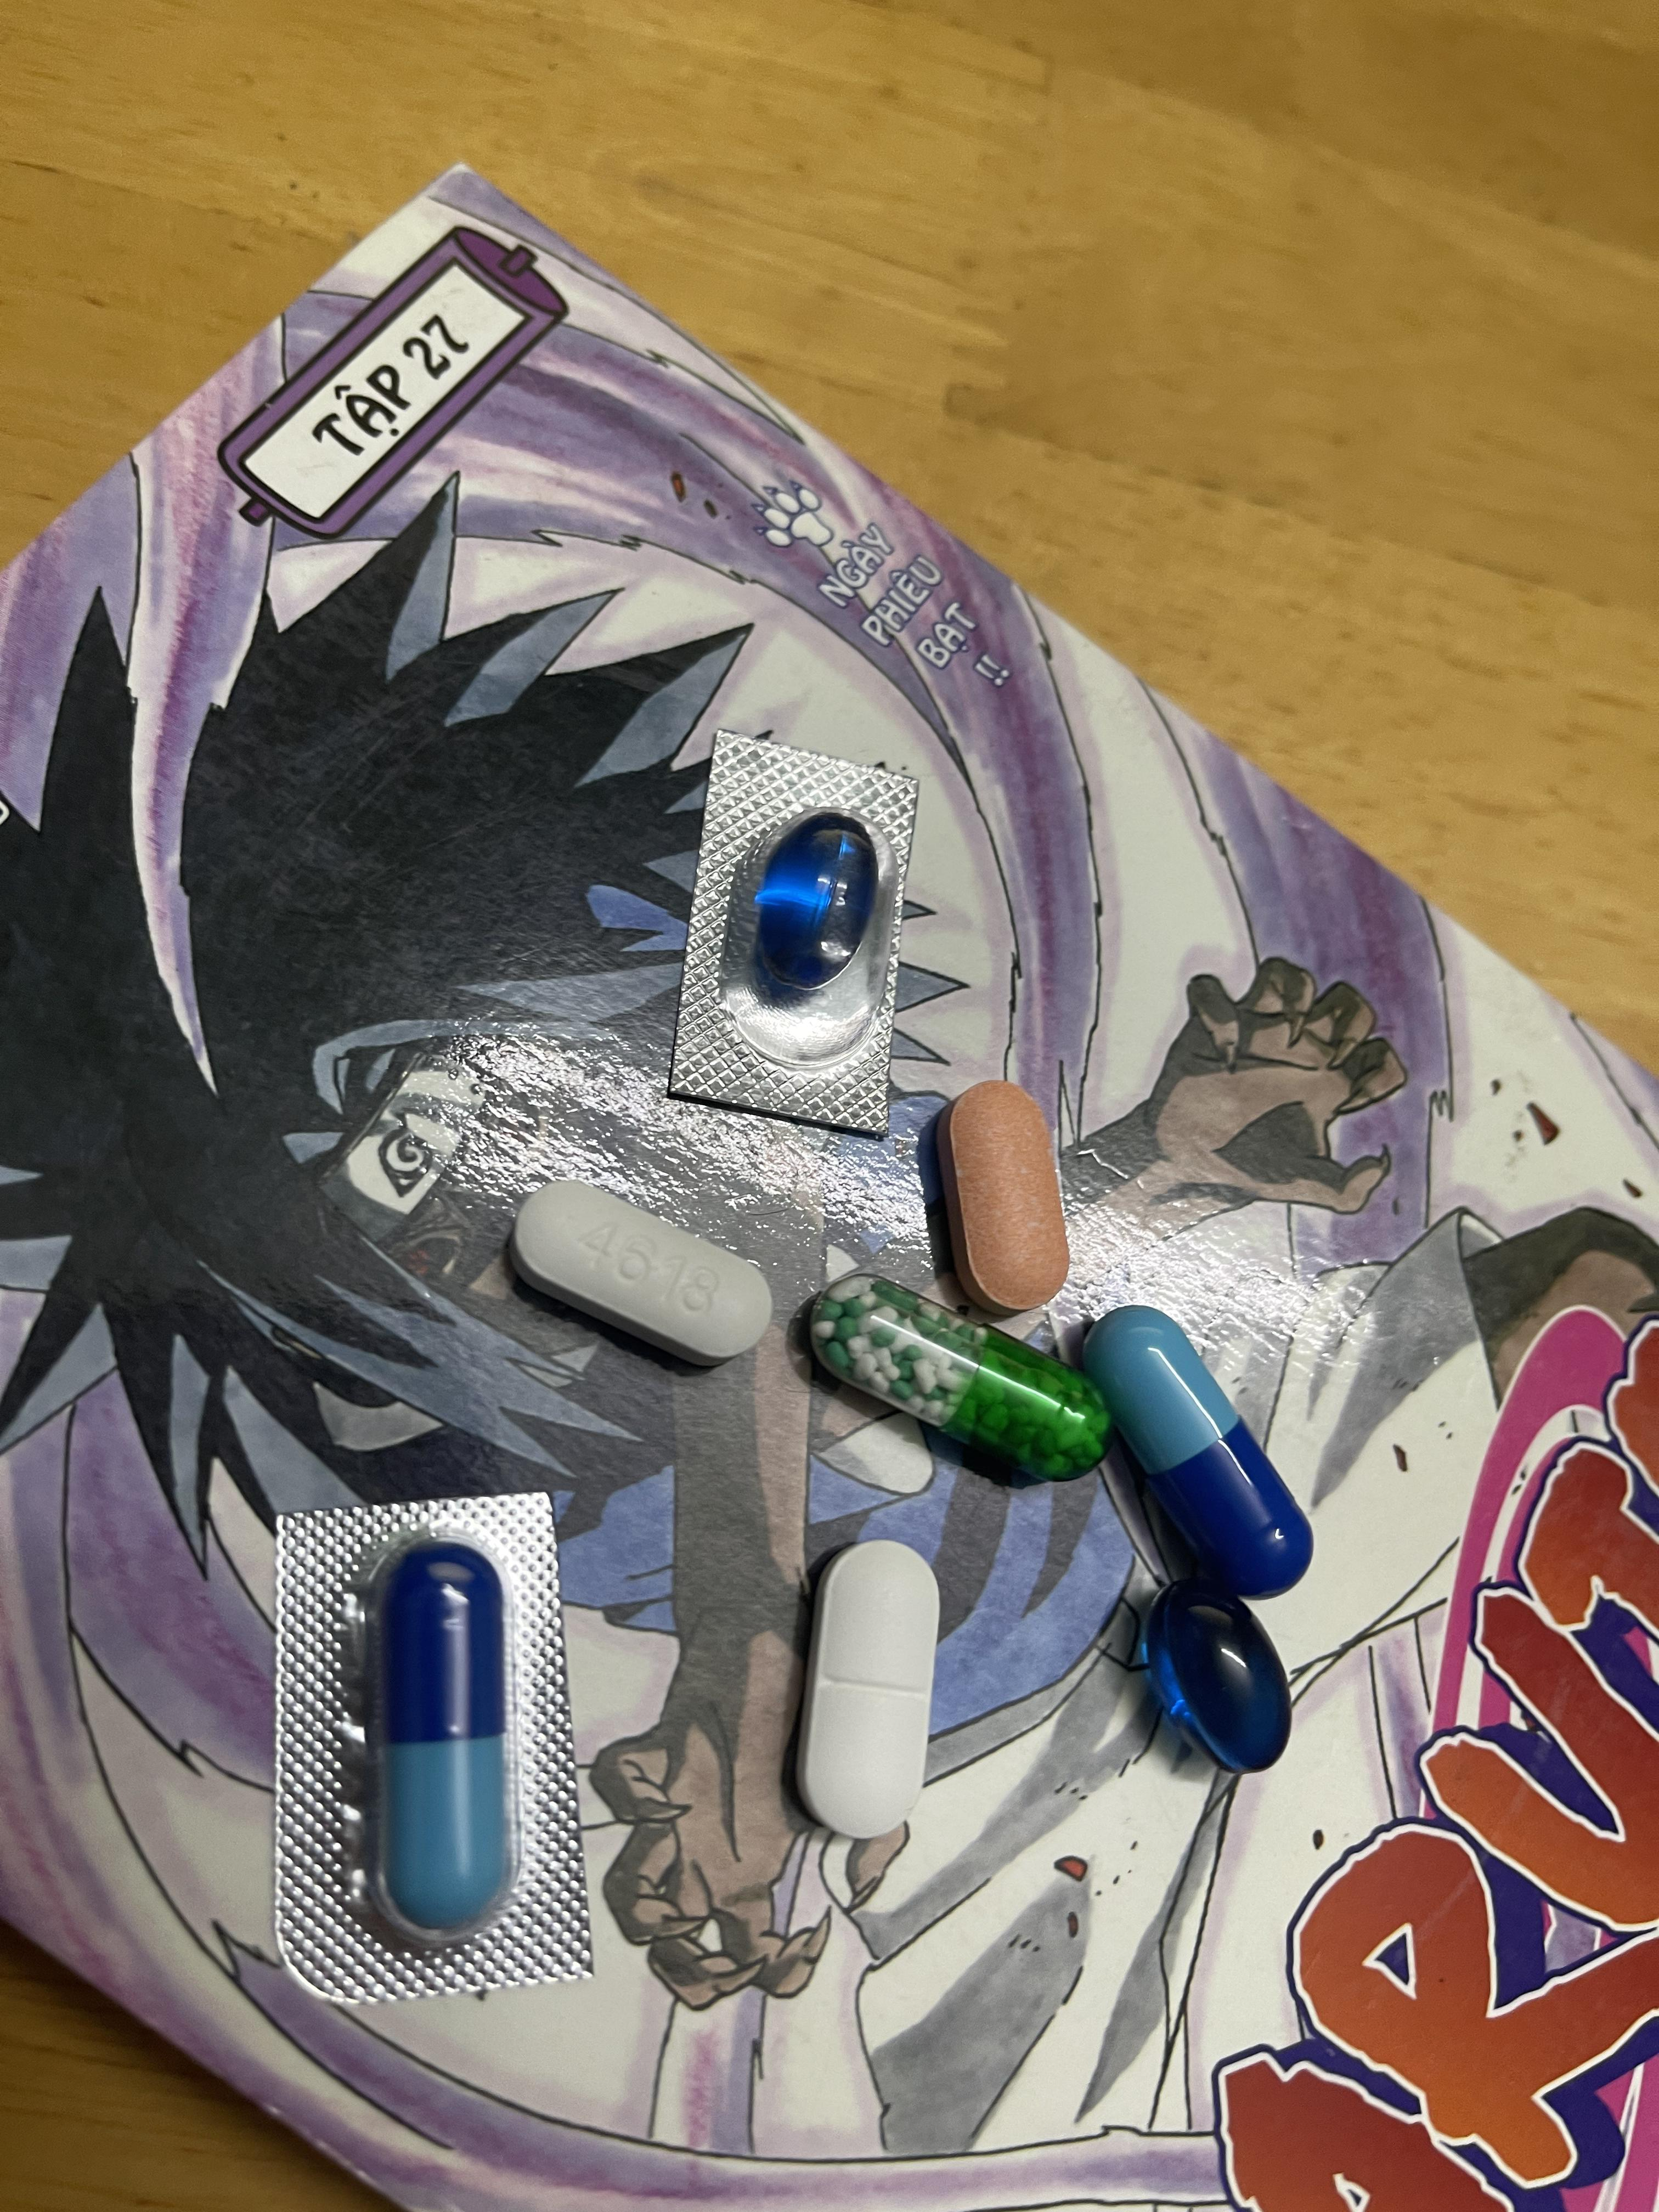Lincomyxin_500mg: (1148, 1588, 1284, 1771), (751, 822, 880, 993)
Loratadine_10mg: (945, 1082, 1063, 1308)
Paracetamol_350mg: (795, 1534, 939, 1838)
Paracetamol_500mg: (512, 1179, 772, 1362)
Paracetamol_650mg: (814, 1284, 1103, 1480)
pill: (1075, 1305, 1309, 1587), (376, 1554, 511, 1939)
